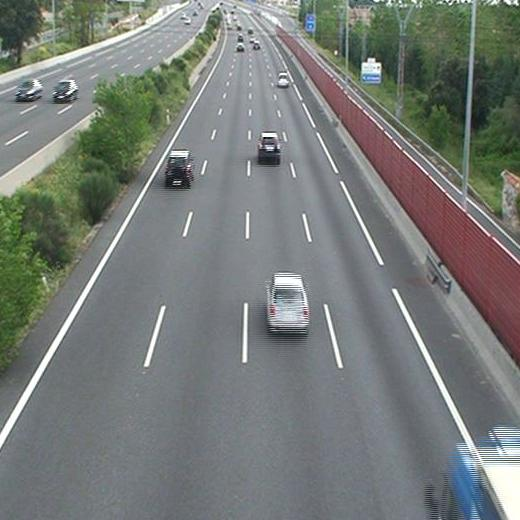car: (266, 274, 308, 331), (165, 151, 190, 185), (259, 132, 280, 159), (276, 73, 288, 87), (236, 43, 245, 53)
